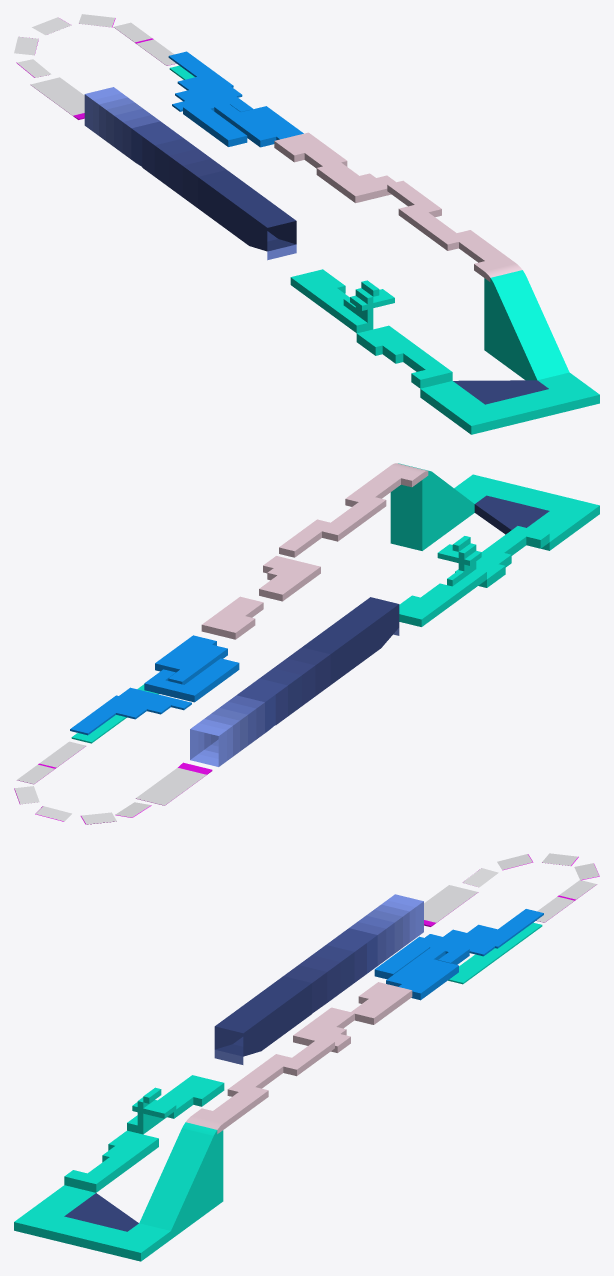
3 renders of one model, top to bottom at view 1: azimuth 30°, elevation 25°; view 2: azimuth 150°, elevation 25°; view 3: azimuth 330°, elevation 25°, orthographic.
Parts seen in each view (by area): view 1: run-SKP--Material14, run-SKP--Material15, run-SKP--Material13, run-SKP--Material16, run-SKP--Material1, run-SKP--Material9, run-SKP--Material12, run-SKP--Material10, run-SKP--Material11, run-SKP--Material2, run-SKP--Material7, run-SKP--Material6; view 2: run-SKP--Material14, run-SKP--Material15, run-SKP--Material16, run-SKP--Material13, run-SKP--Material1, run-SKP--Material9, run-SKP--Material2, run-SKP--Material12, run-SKP--Material10, run-SKP--Material11, run-SKP--Material3, run-SKP--Material4 (+4 smaller); view 3: run-SKP--Material14, run-SKP--Material15, run-SKP--Material13, run-SKP--Material16, run-SKP--Material1, run-SKP--Material9, run-SKP--Material12, run-SKP--Material10, run-SKP--Material11, run-SKP--Material2, run-SKP--Material7, run-SKP--Material6.
Boxes of the visible parts, x1,y1,x2,y2 form: run-SKP--Material14: (169, 65, 599, 434); run-SKP--Material15: (274, 132, 522, 281); run-SKP--Material13: (198, 170, 548, 404); run-SKP--Material16: (168, 51, 303, 147); run-SKP--Material1: (14, 14, 175, 115); run-SKP--Material9: (132, 121, 183, 176); run-SKP--Material12: (182, 158, 226, 207); run-SKP--Material10: (154, 138, 197, 186); run-SKP--Material11: (169, 148, 210, 196); run-SKP--Material2: (84, 87, 296, 260); run-SKP--Material7: (122, 115, 159, 159); run-SKP--Material6: (114, 108, 151, 152); run-SKP--Material14: (71, 463, 599, 743); run-SKP--Material15: (201, 463, 428, 639); run-SKP--Material16: (70, 635, 239, 735); run-SKP--Material13: (302, 495, 549, 684); run-SKP--Material1: (14, 741, 206, 824); run-SKP--Material9: (237, 678, 287, 724); run-SKP--Material2: (190, 628, 399, 766); run-SKP--Material12: (287, 647, 330, 696); run-SKP--Material10: (259, 668, 301, 716); run-SKP--Material11: (273, 658, 315, 705); run-SKP--Material3: (198, 719, 232, 760); run-SKP--Material4: (204, 713, 239, 756); run-SKP--Material14: (14, 922, 542, 1261); run-SKP--Material15: (186, 982, 412, 1133); run-SKP--Material13: (64, 976, 311, 1231); run-SKP--Material16: (374, 909, 543, 1000); run-SKP--Material1: (424, 853, 599, 922); run-SKP--Material9: (326, 928, 377, 982); run-SKP--Material12: (284, 965, 327, 1013); run-SKP--Material10: (312, 945, 354, 992); run-SKP--Material11: (299, 955, 340, 1002); run-SKP--Material2: (214, 894, 423, 1064); run-SKP--Material7: (349, 922, 386, 965); run-SKP--Material6: (358, 915, 394, 959).
Size of the model in its own units: 16809 by 9827 by 111367.
Materials: 17 (17 with a texture image).
